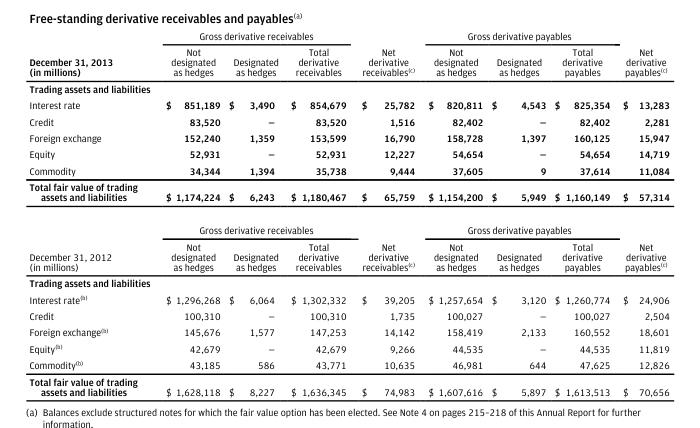table: (28, 28, 668, 397)
table column: (28, 28, 150, 397), (150, 28, 223, 397), (283, 28, 353, 397), (353, 28, 420, 397), (420, 28, 486, 397), (549, 28, 615, 397), (486, 28, 549, 397), (223, 28, 283, 397), (615, 28, 668, 397)
table column header: (28, 28, 668, 79)
table projected row header: (28, 79, 668, 96), (28, 274, 668, 290)
table row: (28, 237, 668, 274), (28, 43, 668, 79), (28, 178, 668, 213), (28, 372, 668, 397), (28, 213, 668, 237), (28, 79, 668, 96), (28, 112, 668, 129), (28, 161, 668, 178), (28, 290, 668, 307), (28, 339, 668, 356), (28, 96, 668, 112), (28, 129, 668, 145), (28, 145, 668, 161), (28, 274, 668, 290), (28, 307, 668, 323), (28, 323, 668, 339), (28, 356, 668, 372), (28, 28, 668, 43)
table spanning cell: (28, 28, 150, 79), (150, 213, 353, 237), (420, 213, 615, 237), (353, 28, 420, 79), (150, 28, 353, 43), (420, 28, 615, 43), (615, 28, 668, 79)
